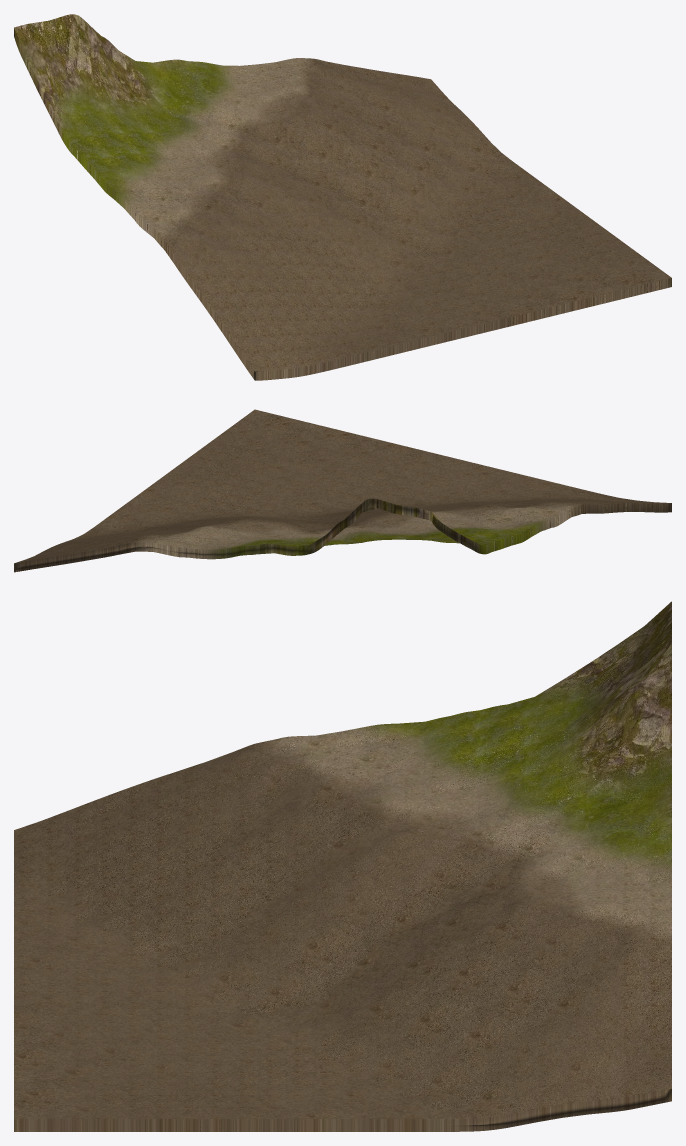
Rendered from chunk_4_4.glb.
3 renders of one model, top to bottom at view 1: azimuth 30°, elevation 25°; view 2: azimuth 150°, elevation 25°; view 3: azimuth 270°, elevation 25°, orthographic. The views are drawn at different scales.
Visible parts, largest first — view 1: Terrain_L2, Terrain_L0, Terrain_L1; view 2: Terrain_L1, Terrain_L2, Terrain_L0; view 3: Terrain_L2, Terrain_L0, Terrain_L1.
Part boxes in pixels (x1,y1,x2,y2): Terrain_L2: (14, 15, 671, 379); Terrain_L0: (14, 14, 671, 380); Terrain_L1: (15, 15, 671, 380); Terrain_L1: (14, 409, 671, 571); Terrain_L2: (17, 482, 671, 569); Terrain_L0: (14, 487, 671, 572); Terrain_L2: (14, 602, 671, 1131); Terrain_L0: (14, 601, 671, 1131); Terrain_L1: (14, 602, 671, 1131).
Size of the model in its own units: 96 by 40.74 by 96.
Materials: 1 (1 with a texture image).
